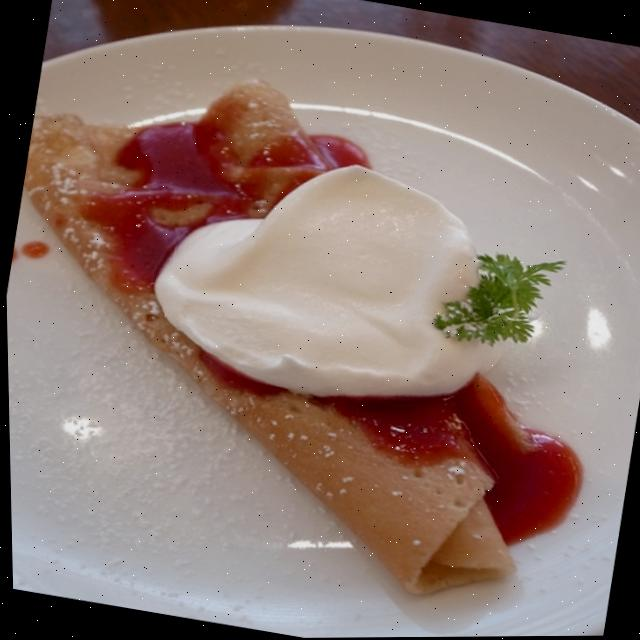鸡蛋料理: (0, 1, 610, 640)
